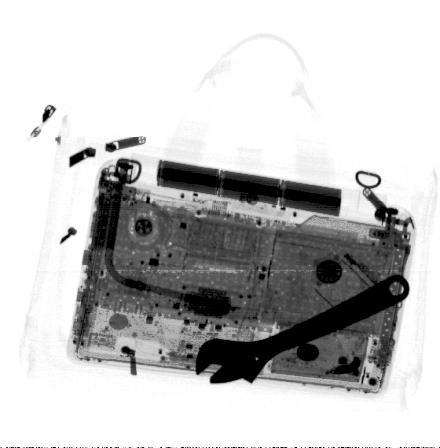Wrench: (194, 272, 410, 386)
